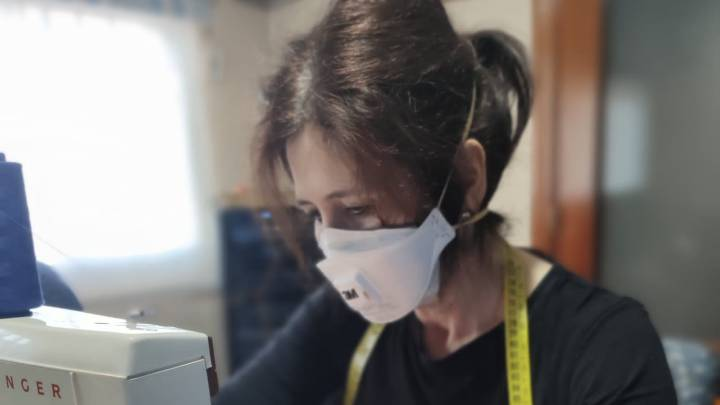with_mask: (272, 111, 492, 325)
